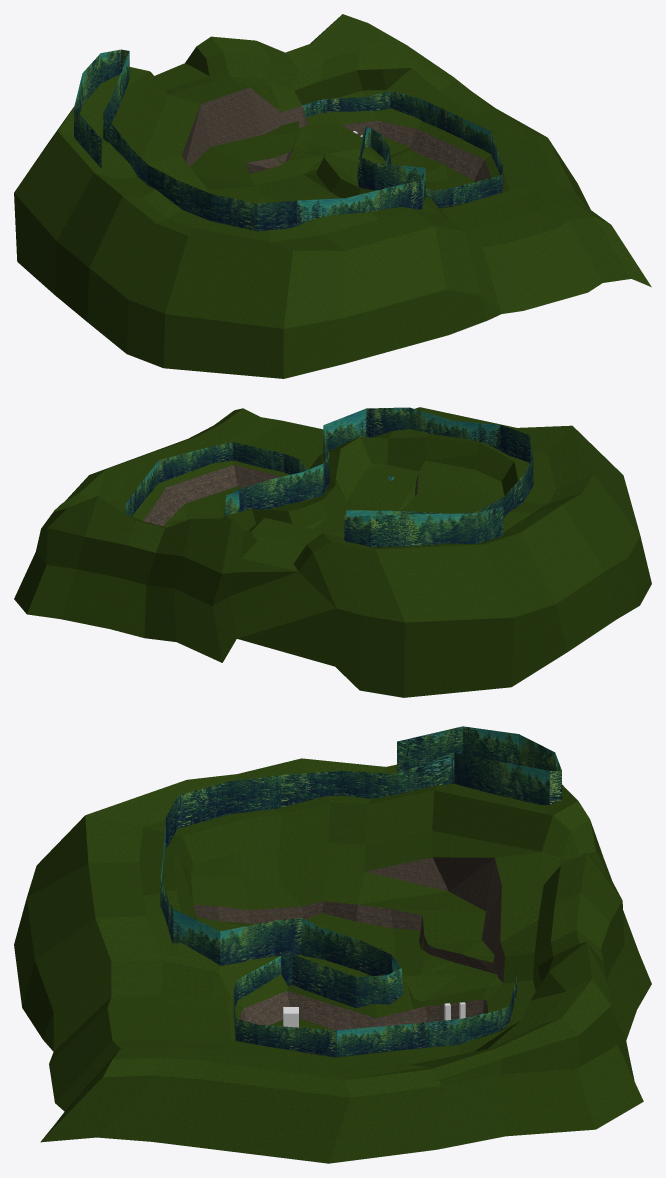
The model's file is tutorial_island.fbx.
The picture shows the model from 3 angles, top to bottom: view 1: azimuth 30°, elevation 25°; view 2: azimuth 150°, elevation 25°; view 3: azimuth 270°, elevation 25°; orthographic projection. The views are drawn at different scales.
Parts seen in each view (by area): view 1: base_terrain, Plane.001; view 2: base_terrain, Plane.001; view 3: base_terrain, Plane.001.
Part boxes in pixels (x1,y1,x2,y2): base_terrain: (14, 14, 651, 378); Plane.001: (74, 49, 503, 231); base_terrain: (14, 407, 651, 697); Plane.001: (125, 407, 533, 547); base_terrain: (14, 758, 651, 1163); Plane.001: (160, 726, 561, 1057).
Size of the model in its own units: 26470 by 8197 by 23827.
